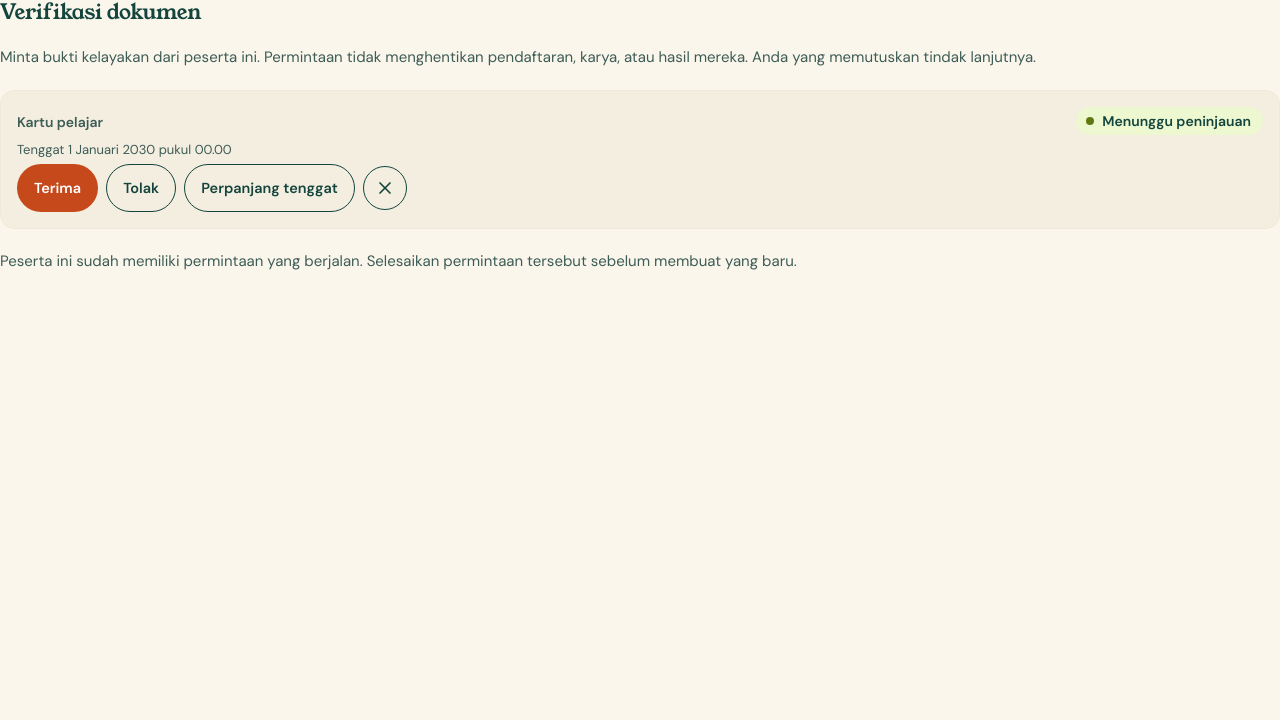
Test case: the reject pop-up of a document request › shows the note error after the first press and sends nothing when the note is empty
The image size is (1280, 720).
Click the button "Tolak": click(141, 188) [106,164,176,212]
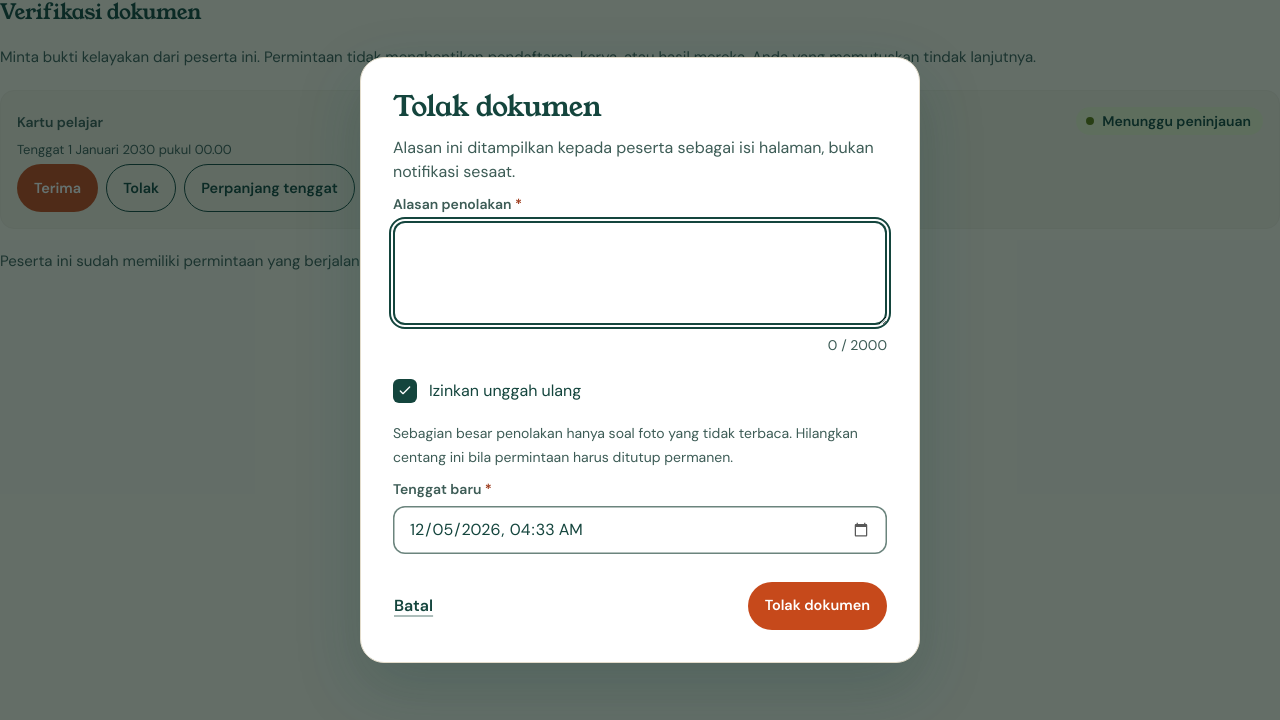
Check: the text "Alasan penolakan wajib diisi." is not shown
Click the button "Tolak dokumen": click(817, 606) [748,582,887,630]
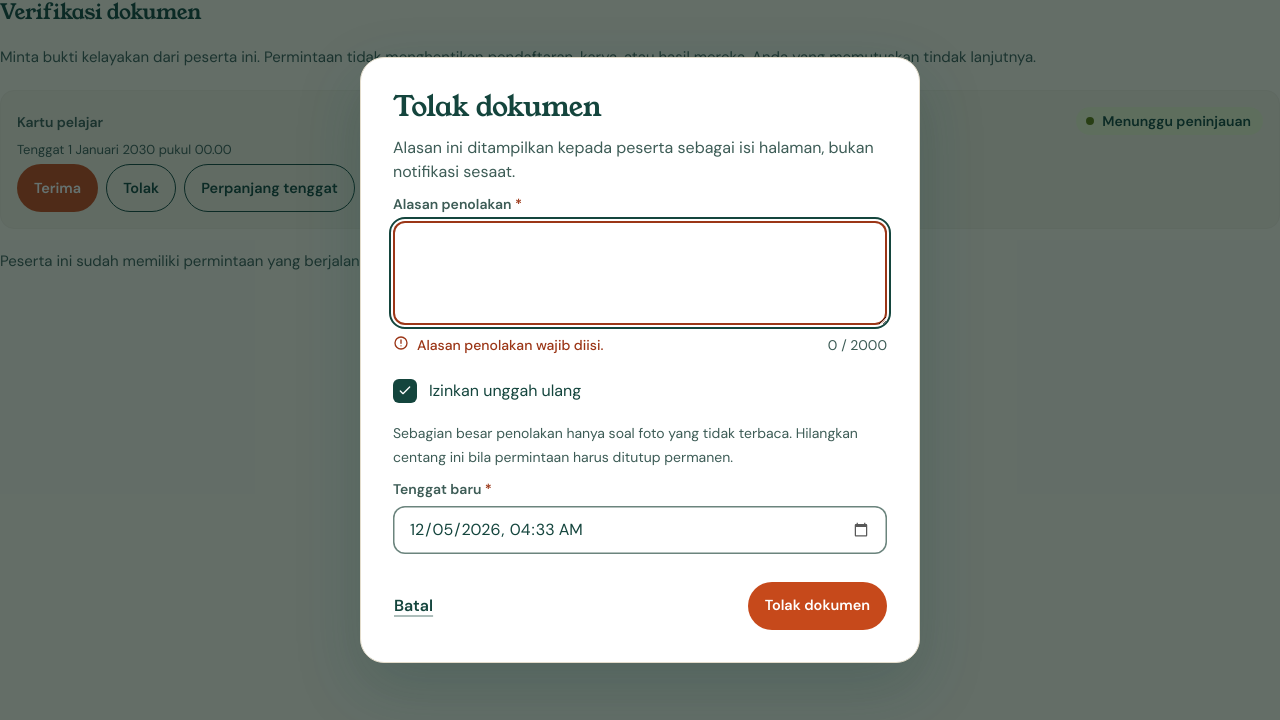
Check: the text "Alasan penolakan wajib diisi." is shown, box [417,333,603,357]
